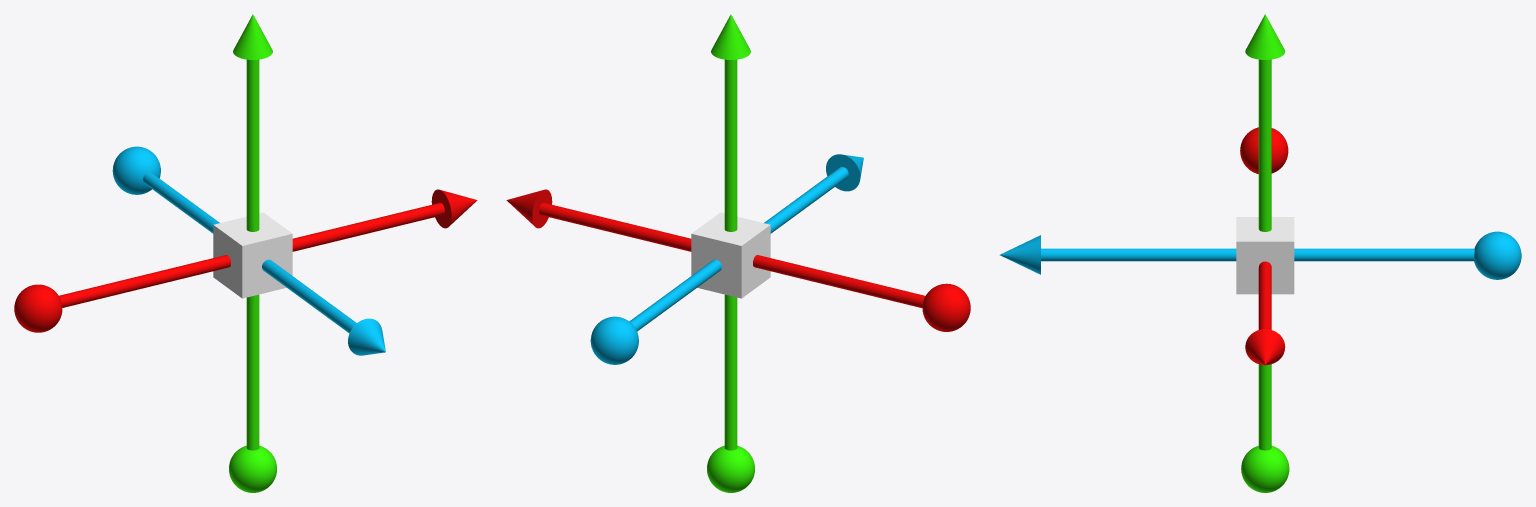
3 renders of one model, left to right at view 1: azimuth 30°, elevation 25°; view 2: azimuth 150°, elevation 25°; view 3: azimuth 270°, elevation 25°, orthographic.
Parts seen in each view (by area): view 1: c, y-l, x-l, z-l, xm, ym, zm, zp, yp, xp; view 2: c, y-l, x-l, z-l, zm, xm, ym, yp, xp, zp; view 3: z-l, c, y-l, zm, ym, xm, xp, yp, x-l, zp.
Boxes of the visible parts, bbox=[...] form: c: bbox=[213, 212, 292, 298]; y-l: bbox=[246, 59, 259, 450]; x-l: bbox=[59, 202, 444, 307]; z-l: bbox=[143, 172, 356, 333]; xm: bbox=[14, 284, 62, 332]; ym: bbox=[229, 445, 276, 492]; zm: bbox=[112, 146, 160, 194]; zp: bbox=[348, 318, 385, 355]; yp: bbox=[233, 14, 272, 59]; xp: bbox=[431, 189, 477, 228]; c: bbox=[691, 212, 770, 298]; y-l: bbox=[724, 59, 737, 450]; x-l: bbox=[539, 202, 925, 308]; z-l: bbox=[629, 167, 848, 331]; zm: bbox=[590, 316, 638, 364]; xm: bbox=[922, 283, 970, 331]; ym: bbox=[707, 445, 754, 492]; yp: bbox=[711, 14, 750, 59]; xp: bbox=[506, 189, 552, 228]; zp: bbox=[826, 154, 863, 191]; z-l: bbox=[1041, 248, 1474, 261]; c: bbox=[1236, 217, 1294, 294]; y-l: bbox=[1258, 59, 1271, 450]; zm: bbox=[1474, 231, 1521, 279]; ym: bbox=[1241, 446, 1289, 492]; xm: bbox=[1240, 127, 1288, 173]; xp: bbox=[1245, 329, 1285, 365]; yp: bbox=[1245, 14, 1285, 59]; x-l: bbox=[1258, 261, 1271, 329]; zp: bbox=[1000, 235, 1040, 274].
Bounding box in the file's own units: 165 × 163 × 162.
